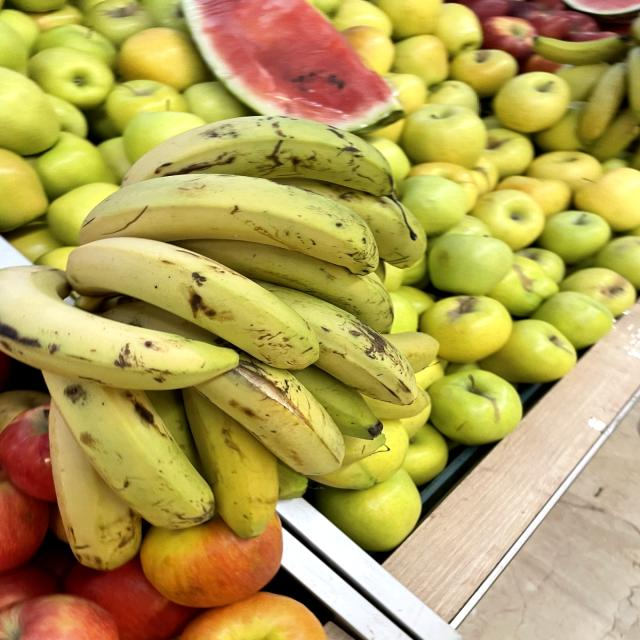banana: (62, 166, 390, 277)
